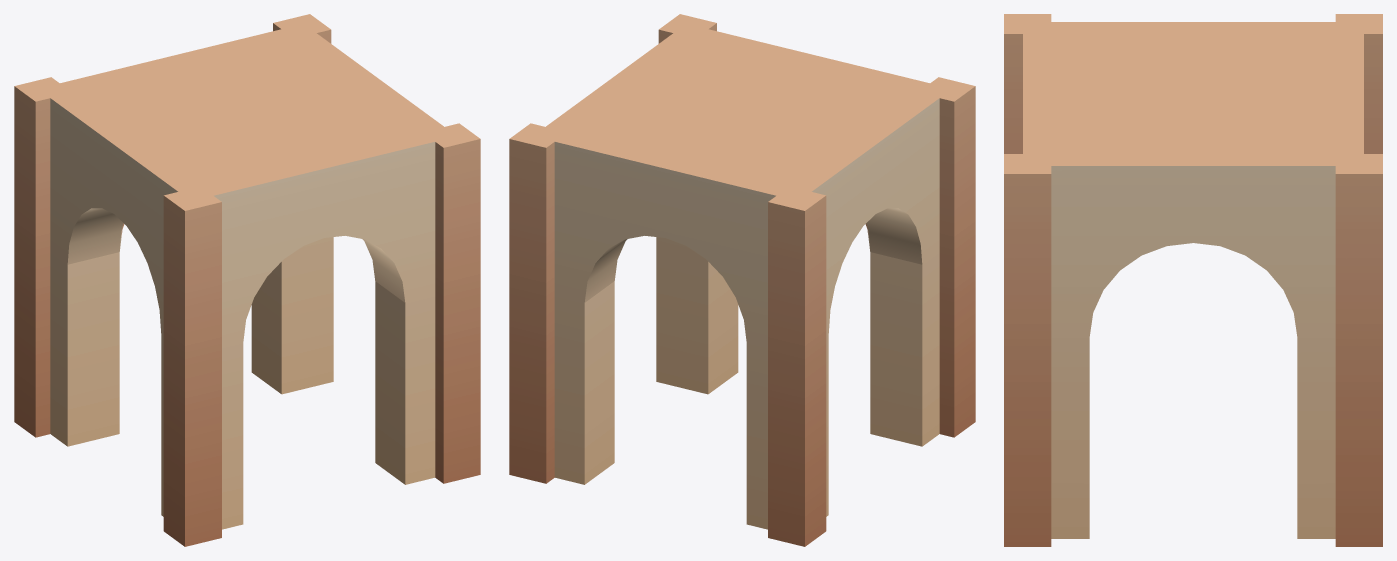
Rendered from tower-square-arch.glb.
3 renders of one model, left to right at view 1: azimuth 30°, elevation 25°; view 2: azimuth 150°, elevation 25°; view 3: azimuth 270°, elevation 25°, orthographic. The views are drawn at different scales.
Parts seen in each view (by area): view 1: tower-square-arch; view 2: tower-square-arch; view 3: tower-square-arch.
Boxes of the visible parts, x1,y1,x2,y2 form: tower-square-arch: (14,14,480,546); tower-square-arch: (509,14,975,546); tower-square-arch: (1004,14,1382,546).
Bounding box in the file's own units: 0.93 × 1.01 × 0.93.
1 material, 1 textured.
